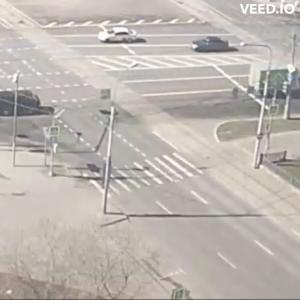car: (249, 62, 300, 92), (1, 83, 47, 114), (95, 28, 140, 47), (193, 38, 241, 55)
